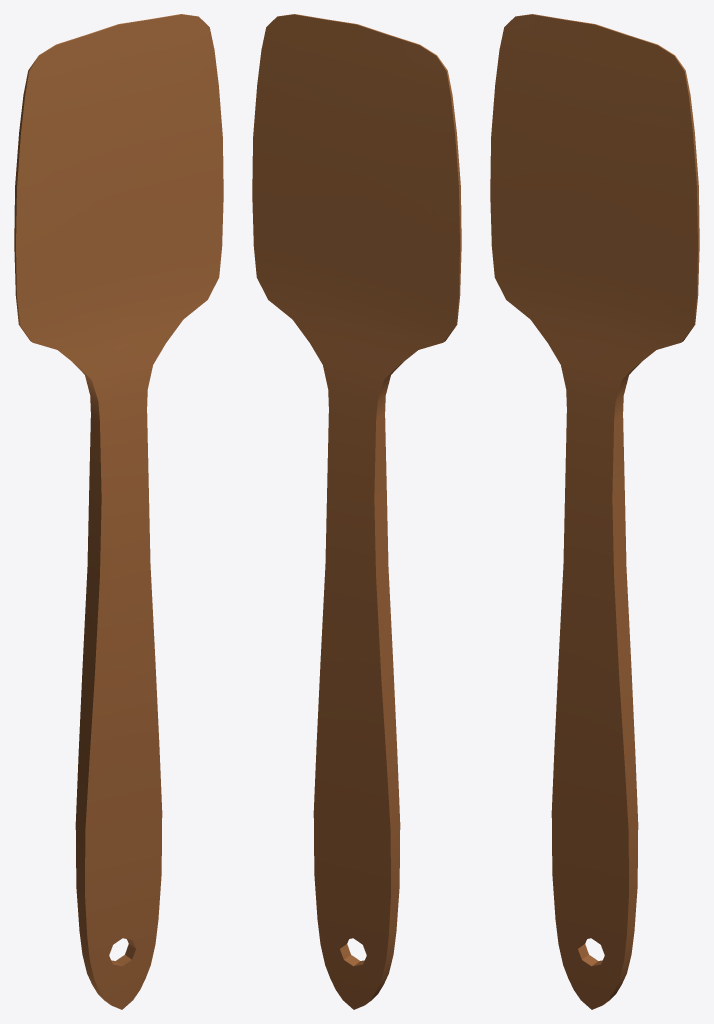
File: Spatula.fbx
The picture shows the model from 3 angles, left to right: view 1: azimuth 30°, elevation 25°; view 2: azimuth 150°, elevation 25°; view 3: azimuth 330°, elevation 25°; orthographic projection.
Visible parts, largest first — view 1: Spatula; view 2: Spatula; view 3: Spatula.
Boxes of the visible parts, box(x1,y1,x2,y2) form: Spatula: box(14, 14, 223, 1009); Spatula: box(252, 14, 461, 1009); Spatula: box(490, 14, 699, 1009).
Bounding box in the file's own units: 11.79 × 53.31 × 1.22.
